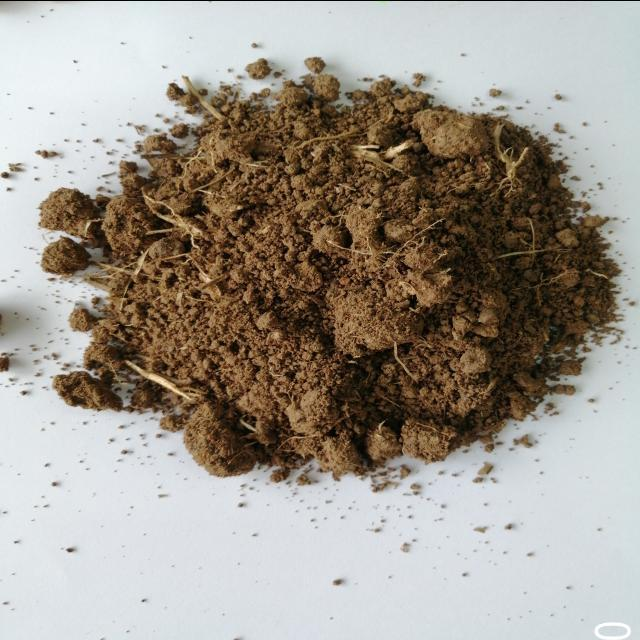soil: (164, 178, 514, 392)
